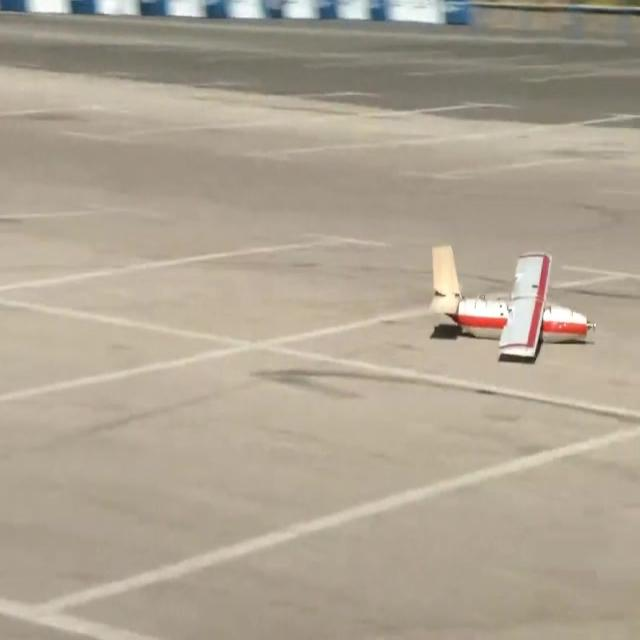iha: (428, 277, 599, 328)
